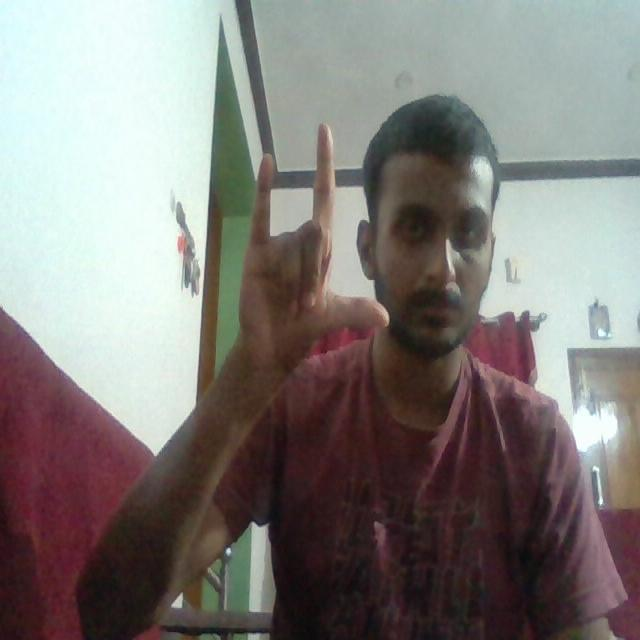iloveyou: (229, 114, 397, 399)
